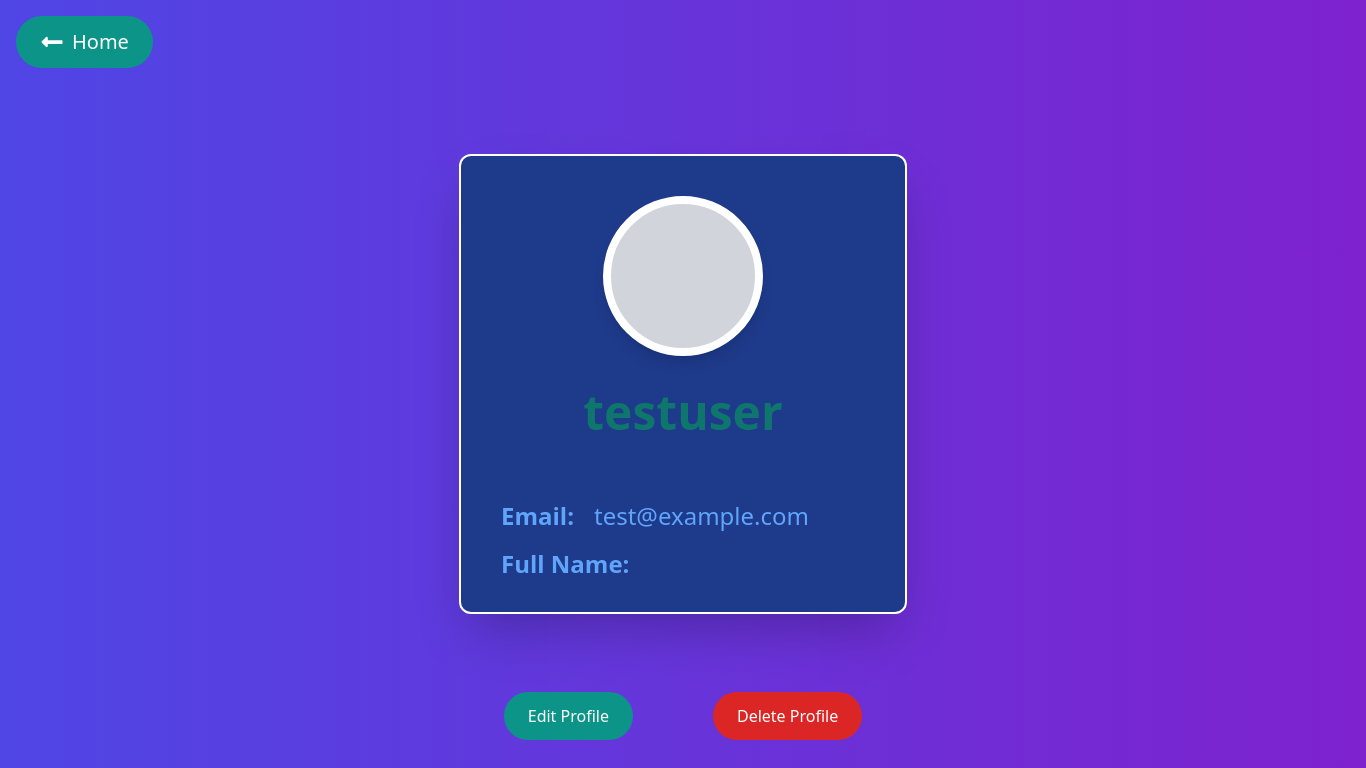
it: Testing Integration › Edit profile popup open when button clicked
Step 1. Click the button "Edit Profile" → (568, 716), box [504,692,633,740]
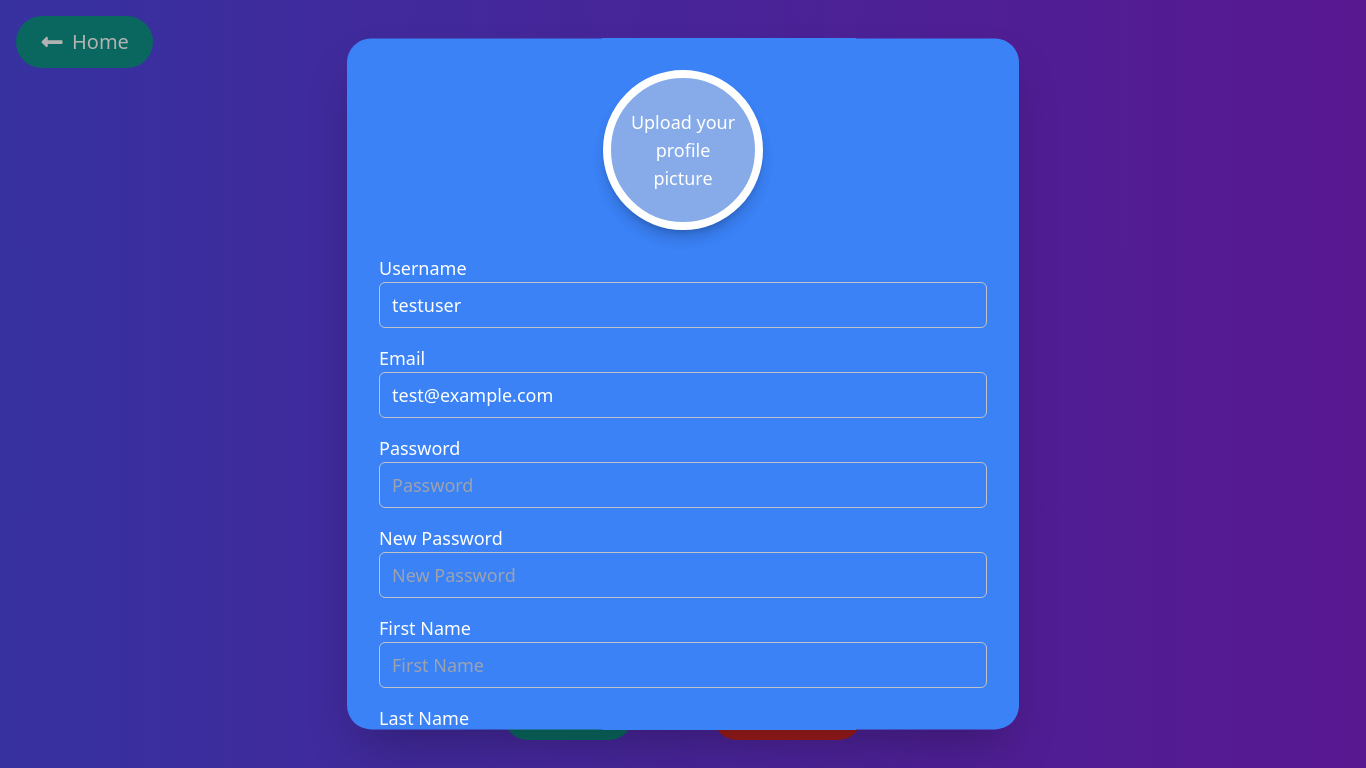
Expected: the password field labelled "New Password" is shown, [379,552,987,598]
